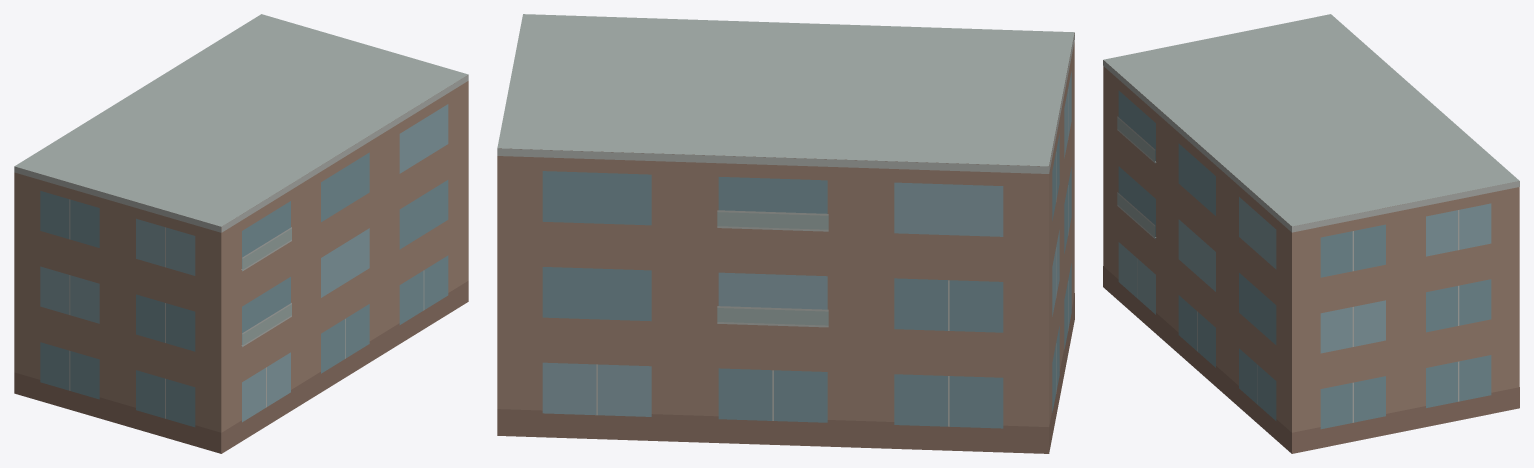
Rendered from survey-upis-32705601.glb.
The picture shows the model from 3 angles, left to right: view 1: azimuth 30°, elevation 25°; view 2: azimuth 150°, elevation 25°; view 3: azimuth 270°, elevation 25°; orthographic projection. The views are drawn at different scales.
Visible parts, largest first — view 1: survey-upis-32705601.tmp; view 2: survey-upis-32705601.tmp; view 3: survey-upis-32705601.tmp.
Boxes of the visible parts, x1,y1,x2,y2 form: survey-upis-32705601.tmp: (14,14,468,453); survey-upis-32705601.tmp: (497,14,1074,453); survey-upis-32705601.tmp: (1103,14,1519,453).
Bounding box in the file's own units: 18.35 × 9.15 × 15.2.
